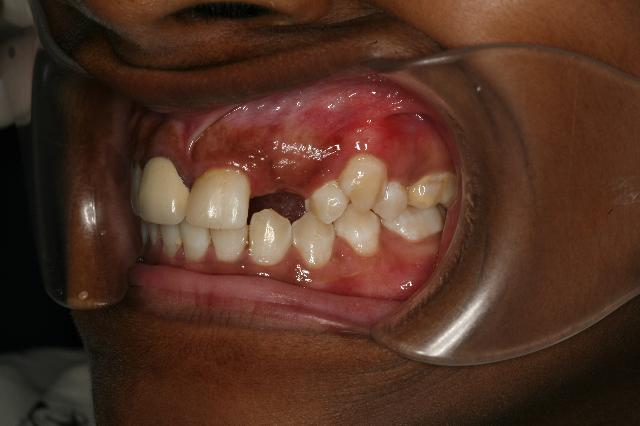molar class III 1/4: (380, 160, 466, 244)
